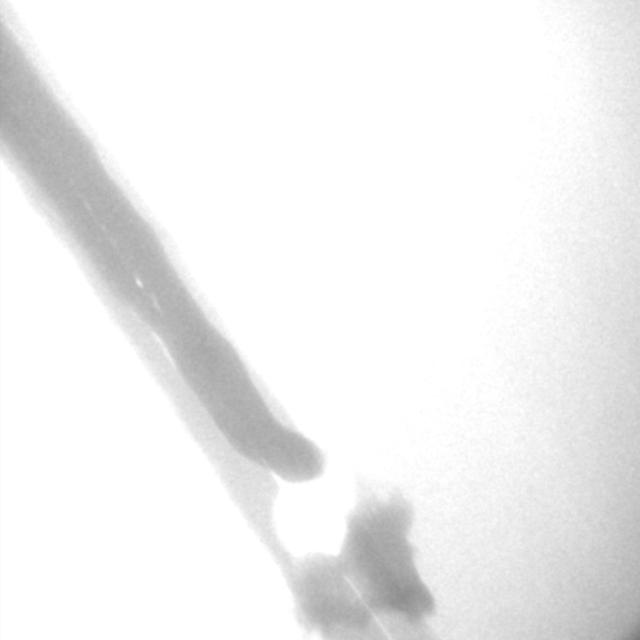air hole: (133, 275, 142, 288)
broken arc: (271, 471, 391, 636)
